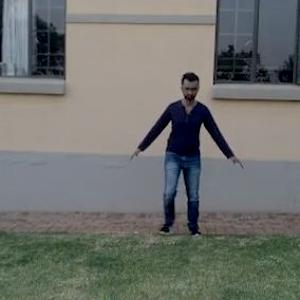land: (124, 71, 252, 241)
